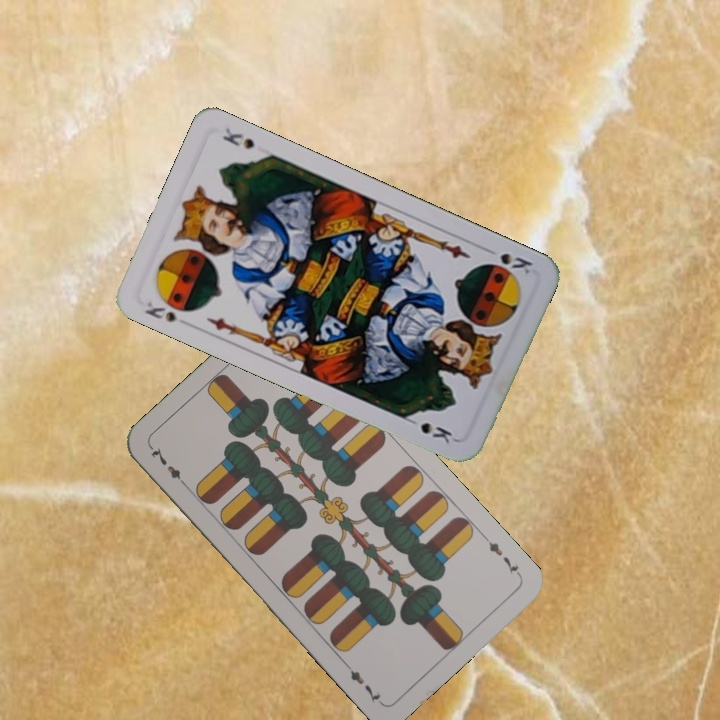E7: (146, 443, 191, 490), (479, 532, 524, 579)
SK: (480, 243, 535, 278), (140, 297, 180, 325)
